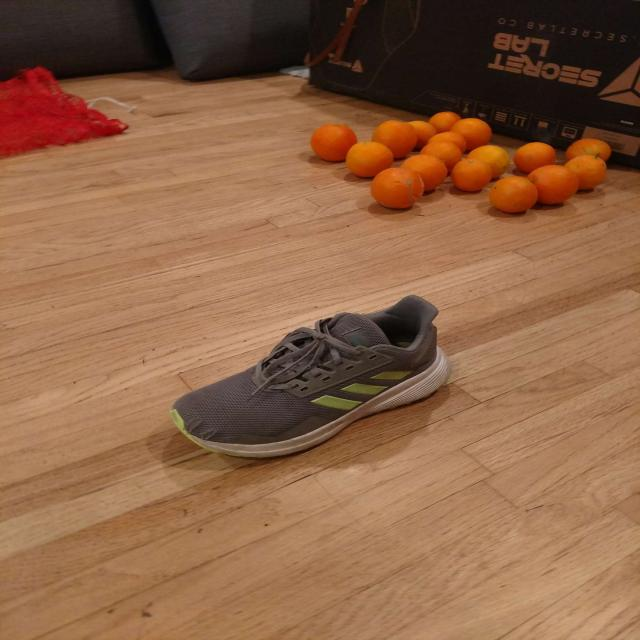shoes: (168, 294, 450, 459)
